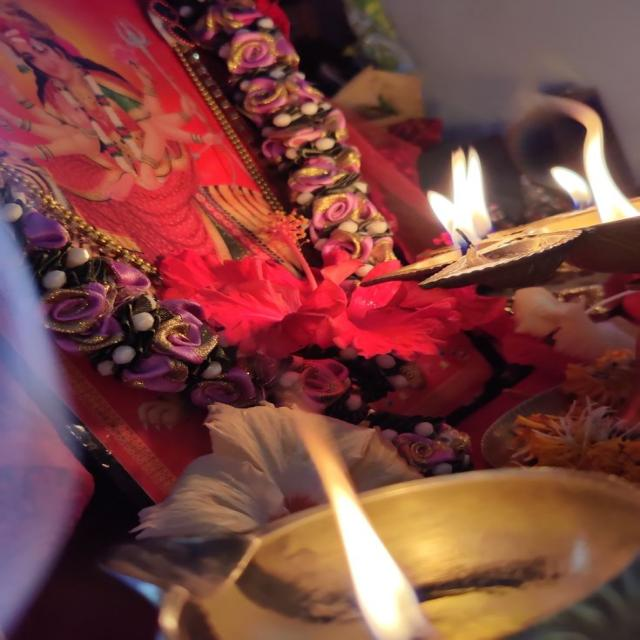fire: (292, 399, 430, 640), (544, 93, 640, 223), (425, 147, 491, 249), (547, 162, 592, 208)
